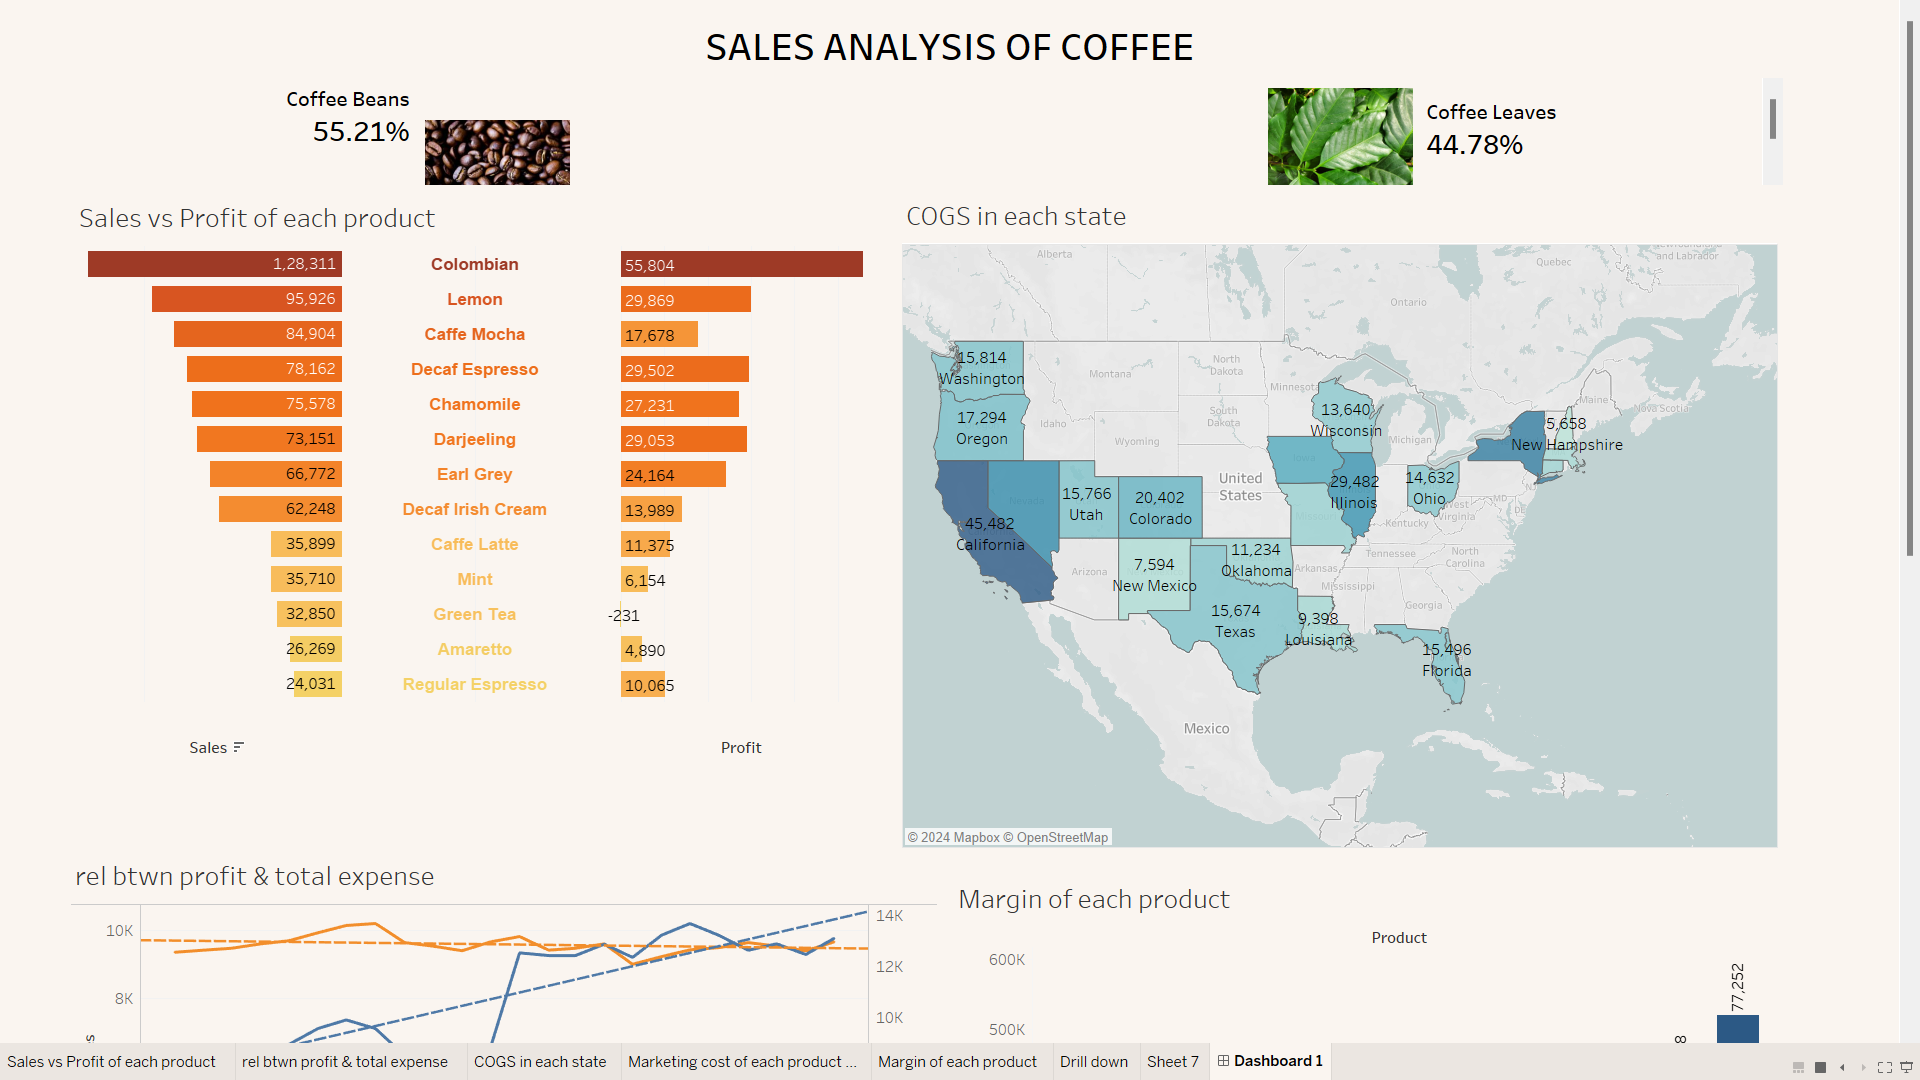

Layout of this report page (visuals, bound fields, positions):
{"tool":"tableau","page":{"name":"Dashboard 1","canvas":[1000,1000],"units":"permille","ordinal":0},"visuals":[{"type":"text","box":[2.4,3.6,995.8,39.5]},{"type":"text","box":[91.7,38.4,103.2,42.5]},{"type":"worksheet","title":"Sheet 7","mark":"Shape","cols":["Product Line"],"box":[3,40,971.6,54.8]},{"type":"text","box":[769.5,46.1,101.4,41]},{"type":"worksheet","title":"COGS in each state","mark":"Multipolygon","box":[473.1,99.4,498.5,335.2]},{"type":"worksheet","title":"Sales vs Profit of each product","mark":"Automatic","rows":["Product"],"cols":["Sales","Calculation_1265230021687050270","Profit"],"box":[2.4,100.5,455,291.7]},{"type":"worksheet","title":"rel btwn profit & total expense","mark":"Automatic","rows":["Total Expenses","Profit"],"cols":["Date"],"box":[0,437.7,493.7,247.6]},{"type":"worksheet","title":"Margin of each product","mark":"GanttBar","rows":["Margin"],"cols":["Product"],"box":[502.7,449.5,462.3,329.6]},{"type":"legend","title":"rel btwn profit & total expense","param":"[federated.1kaqntu1gofah81h4776w0ovlv0n].[:Measure Names]","box":[357.3,605.3,84.5,38.4]},{"type":"worksheet","title":"Drill down","mark":"Polygon","rows":["Date","State","Product","Product Line","Product Type","Type","COGS","Inventory","Margin","Marketing","Profit","Sales"],"box":[6,684.3,478.6,318.3]},{"type":"worksheet","title":"Marketing cost of each product and its type","mark":"Bar","rows":["Product Type","Product"],"cols":["Marketing","Marketing"],"box":[496.1,782.7,465.9,211.2]}]}

Visuals, with their boxes on the dashboard's canvas, which has no fixed pixel size, in thousandths of its width and height (x1, y1, x2, y2). These are canvas units, not pixel positions in the 1920x1080 screenshot, which may show the page scaled, cropped or inside an application window:
text: locate(2, 4, 998, 43)
text: locate(92, 38, 195, 81)
"Sheet 7" worksheet (Shape marks): locate(3, 40, 975, 95)
text: locate(770, 46, 871, 87)
"COGS in each state" worksheet (Multipolygon marks): locate(473, 99, 972, 435)
"Sales vs Profit of each product" worksheet: locate(2, 100, 457, 392)
"rel btwn profit & total expense" worksheet: locate(0, 438, 494, 685)
"Margin of each product" worksheet (GanttBar marks): locate(503, 450, 965, 779)
"rel btwn profit & total expense" legend: locate(357, 605, 442, 644)
"Drill down" worksheet (Polygon marks): locate(6, 684, 485, 1003)
"Marketing cost of each product and its type" worksheet (Bar marks): locate(496, 783, 962, 994)
